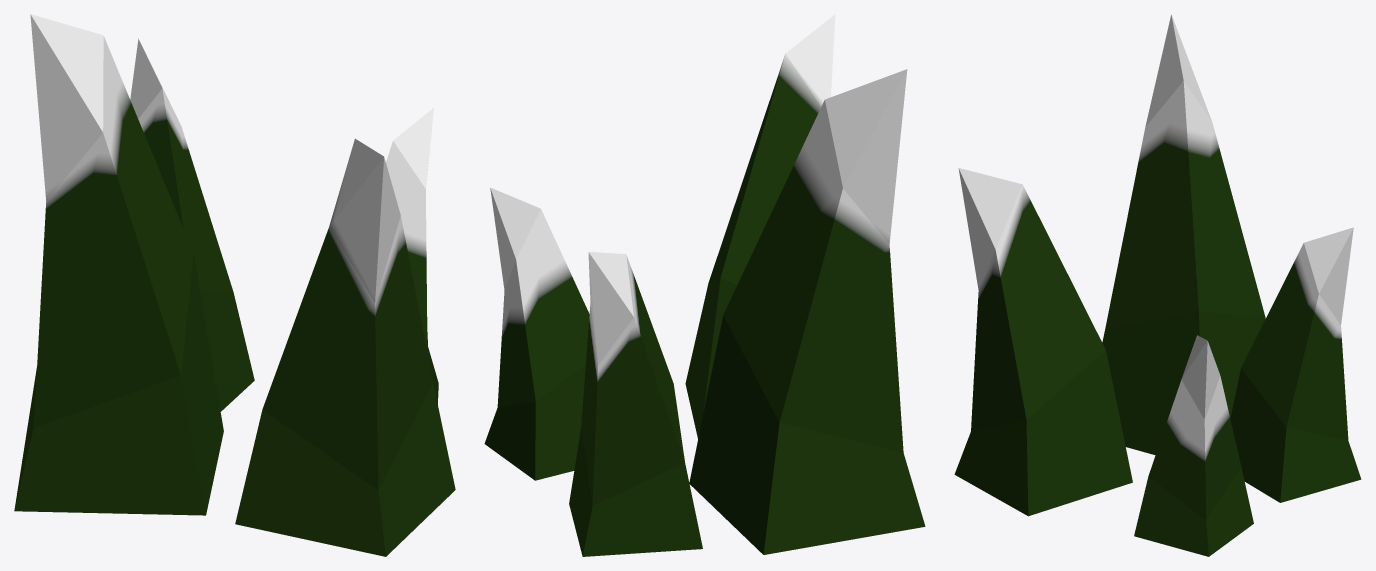
Rendered from grass_highpoly.fbx.
3 renders of one model, left to right at view 1: azimuth 30°, elevation 25°; view 2: azimuth 150°, elevation 25°; view 3: azimuth 270°, elevation 25°, orthographic. The views are drawn at different scales.
Parts seen in each view (by area): view 1: Cone.006; view 2: Cone.006; view 3: Cone.006.
Part boxes in pixels (box(x1,y1,x2,y2)): Cone.006: box(14, 14, 455, 556); Cone.006: box(484, 14, 925, 556); Cone.006: box(954, 14, 1361, 556).
Size of the model in its own units: 9.89 by 10.34 by 10.04.
Materials: 1 (1 with a texture image).
